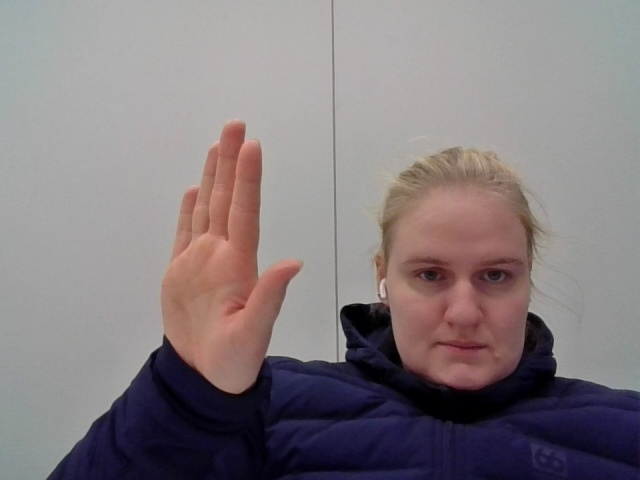nada: (147, 117, 303, 406)
